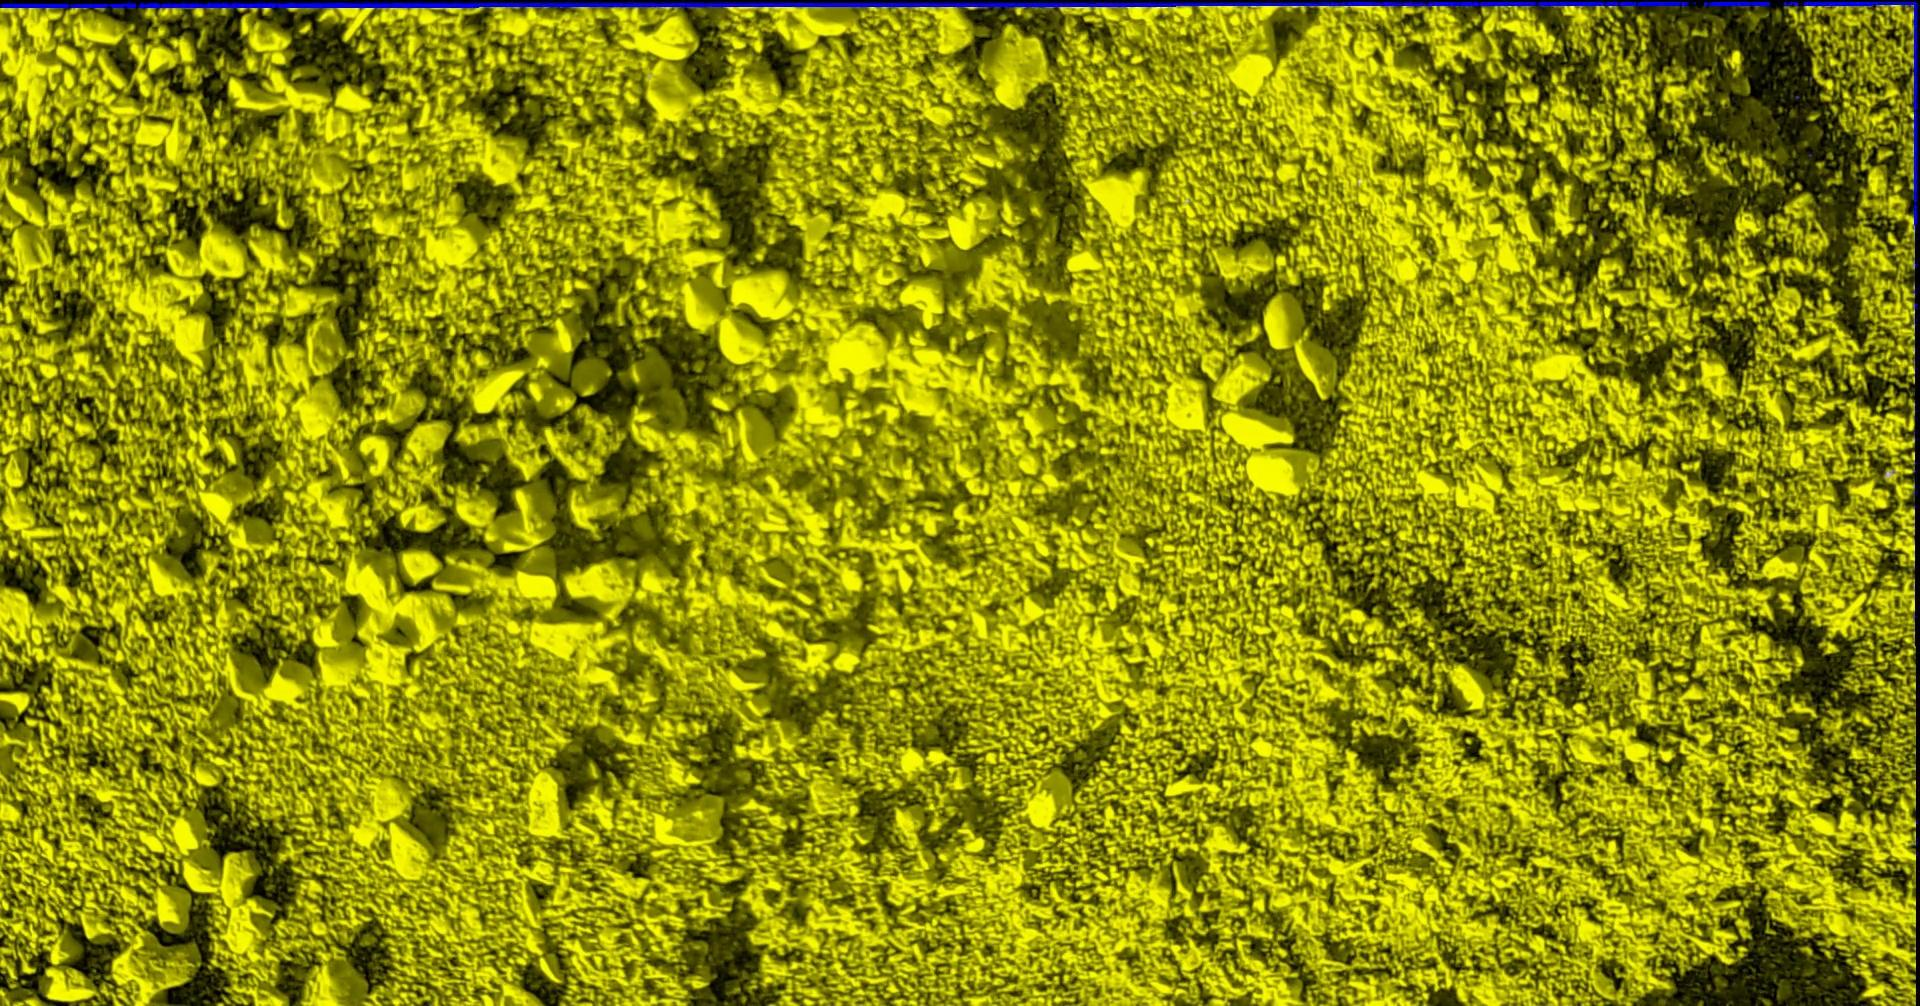ant: (1702, 0, 1770, 8)
